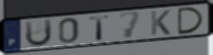0: (58, 17, 81, 45)
7: (118, 10, 142, 40)
D: (176, 6, 206, 36)
K: (149, 9, 172, 36)
T: (88, 14, 111, 41)
U: (24, 17, 54, 48)
